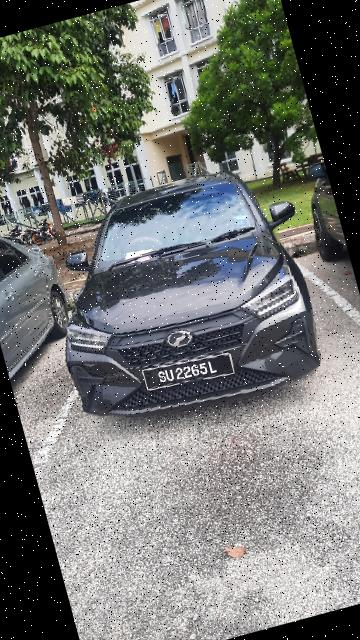License_Plate: (139, 343, 240, 400)
car: (19, 139, 347, 452)
